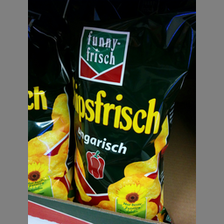chips: (70, 19, 184, 218), (28, 21, 74, 202)
